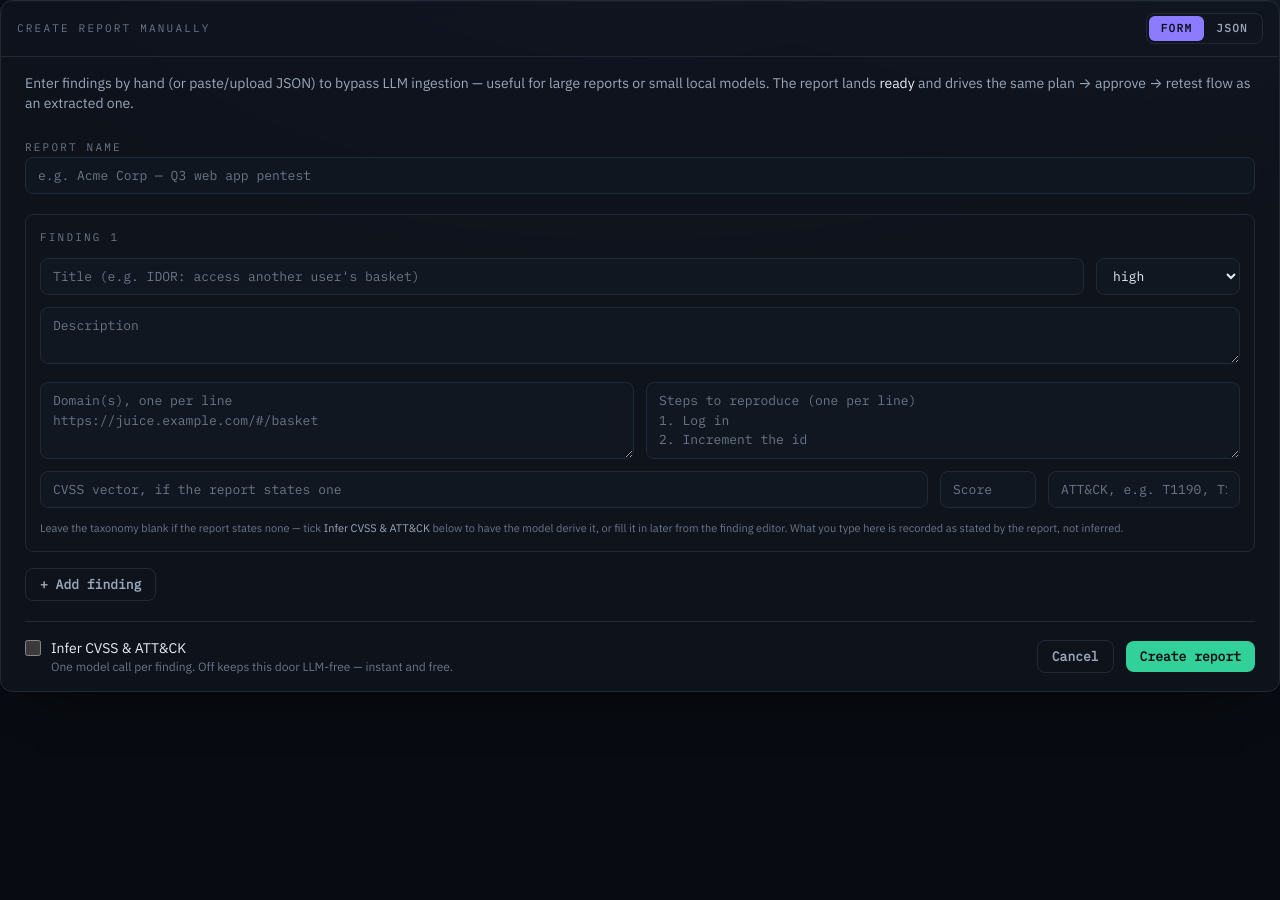
Test: NewReport › blocks submit and shows an error when the name is empty
The width and height of the screenshot is (1280, 900).
Click the button "Create report".
click(1190, 657)  # box [1126,641,1255,672]
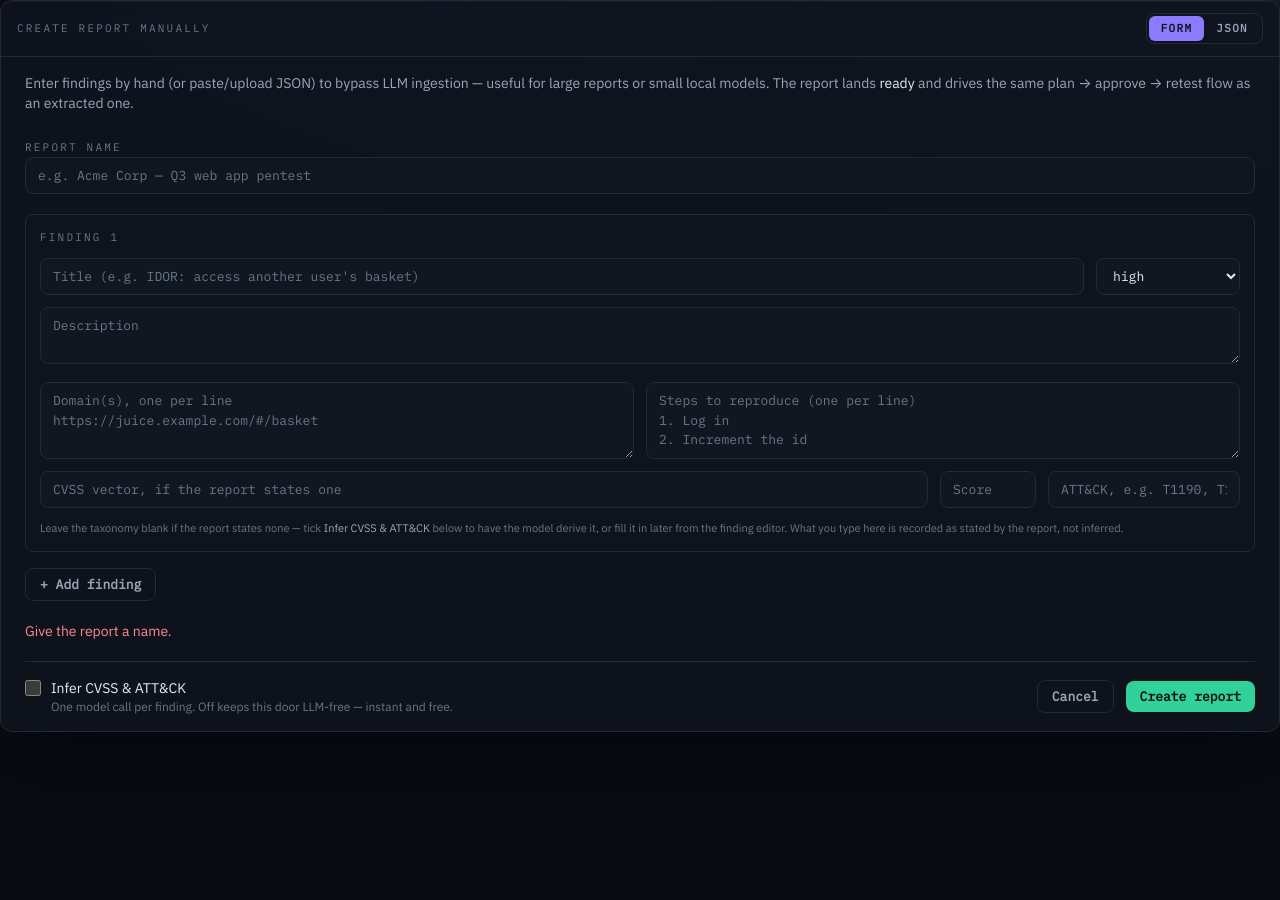
Now the message reads "Give the report a name.", box [25,622,172,640]
